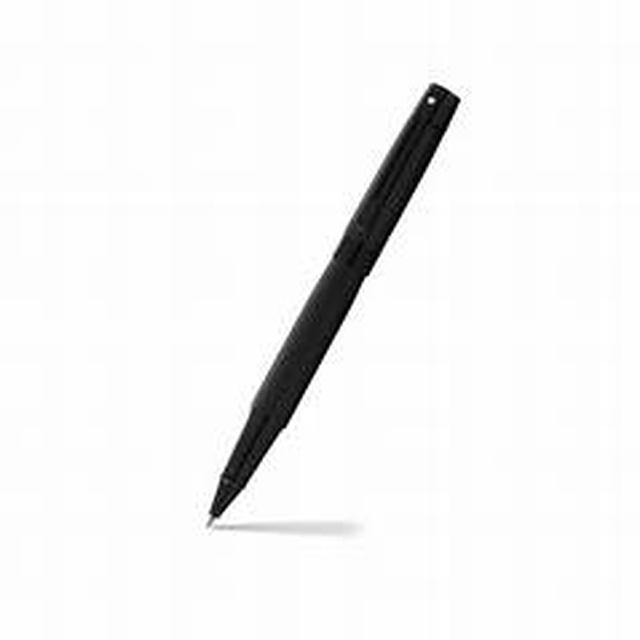pen: (209, 87, 464, 533)
